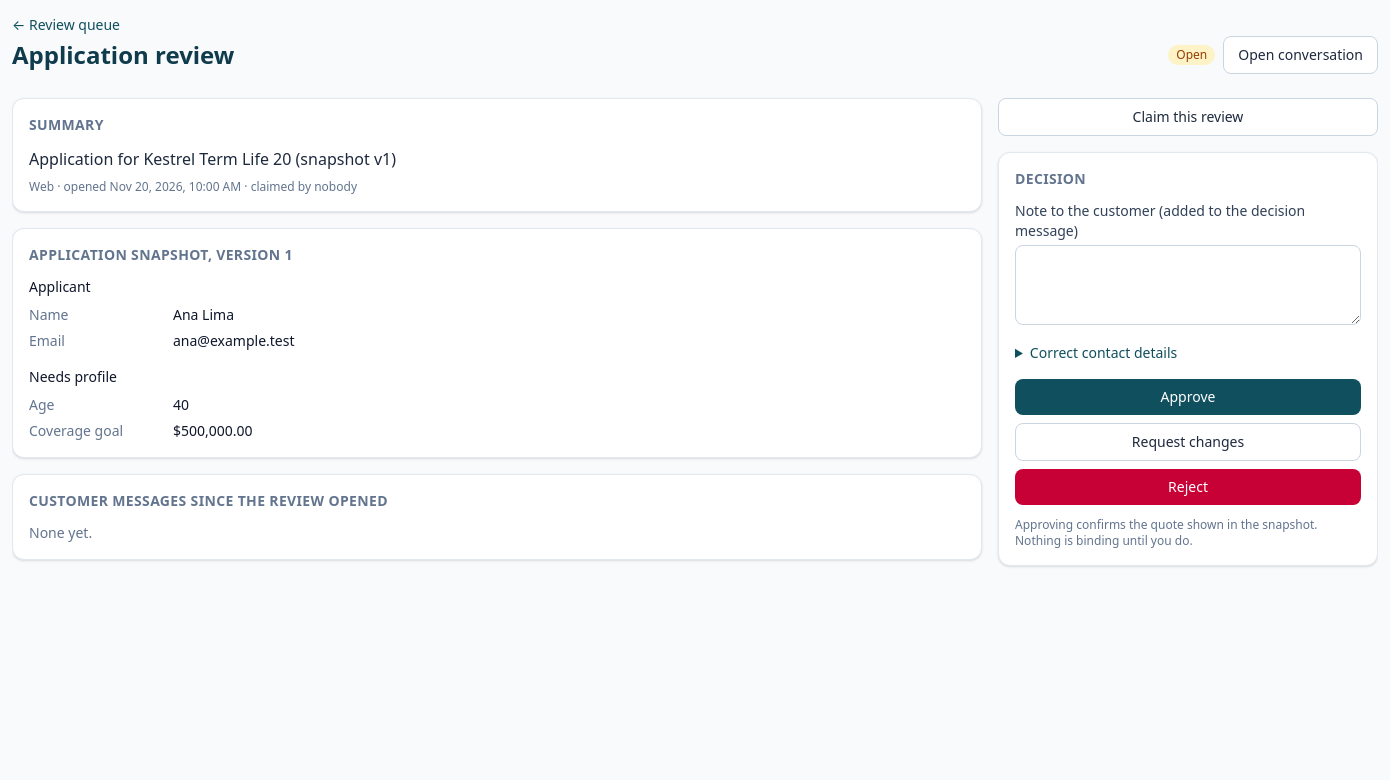
Test case: ReviewDetailPage › shows the snapshot with money formatted, and approves with the agent token
Expected: the text "Ana Lima" is shown, [173,305,234,324]
Expected: the text "$500,000.00" is shown, [173,421,253,440]
Step 1. Type "All in order." into the text box labelled "Note to the customer (added to the decision message)" → {"x": 1188, "y": 285}, box [1015,245,1361,325]
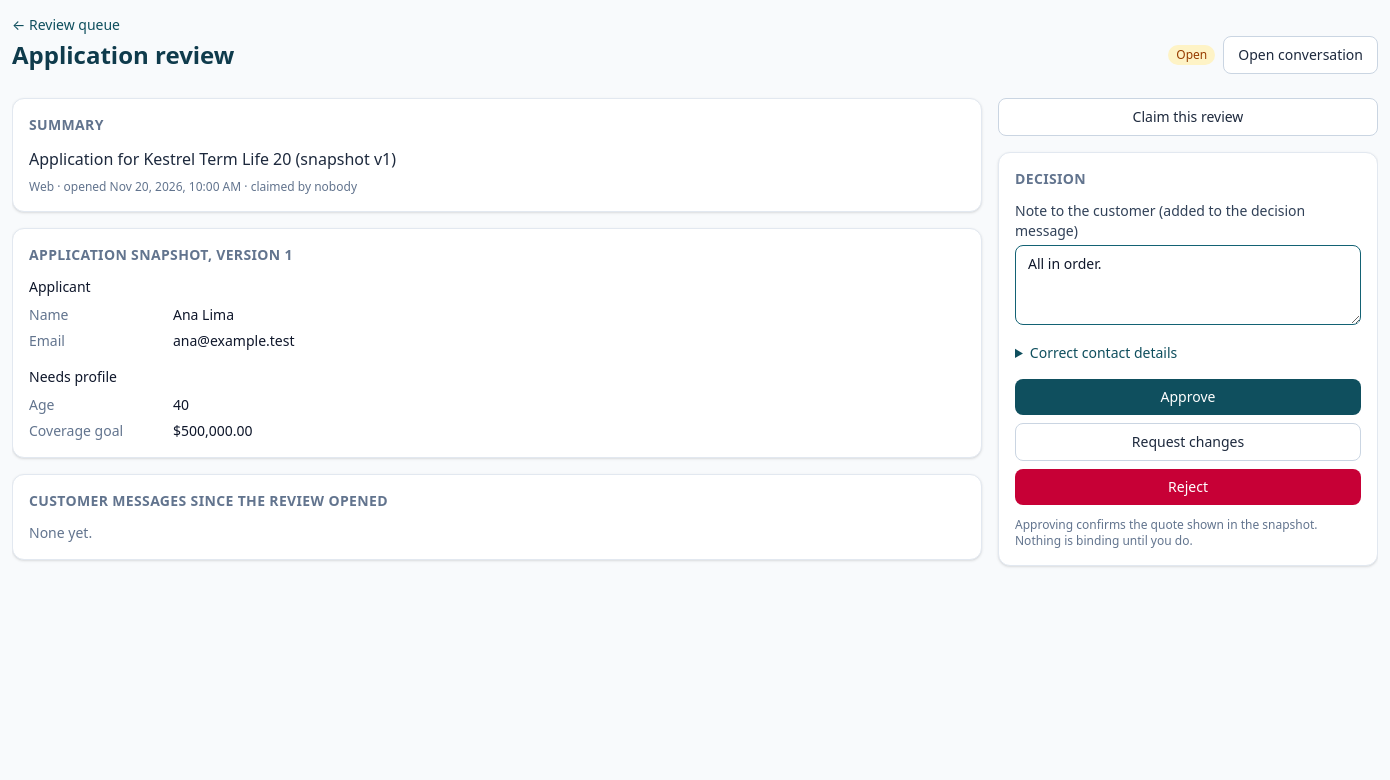
Step 2. Click the button "Approve" → {"x": 1188, "y": 397}, box [1015,379,1361,415]
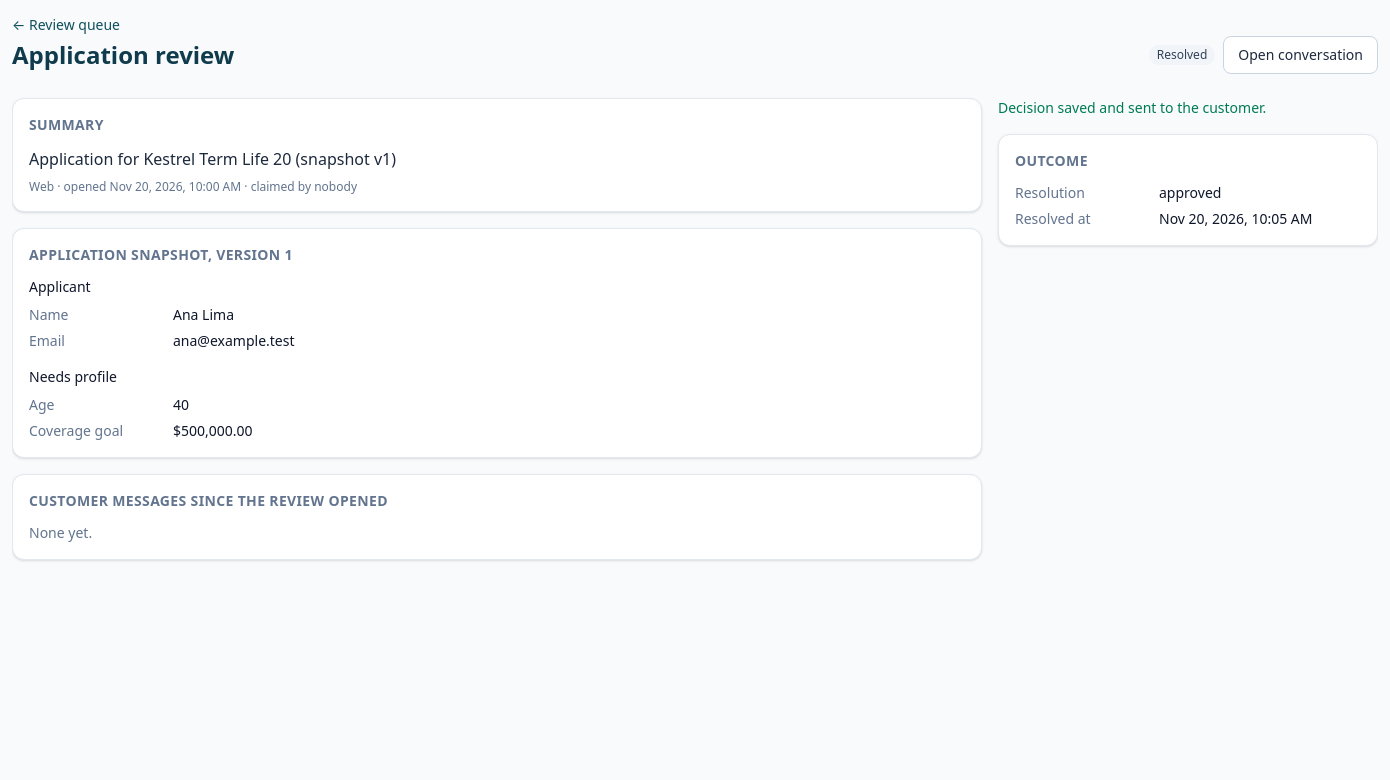
Expected: the text "Decision saved and sent to the customer." is shown, [998,98,1266,117]
